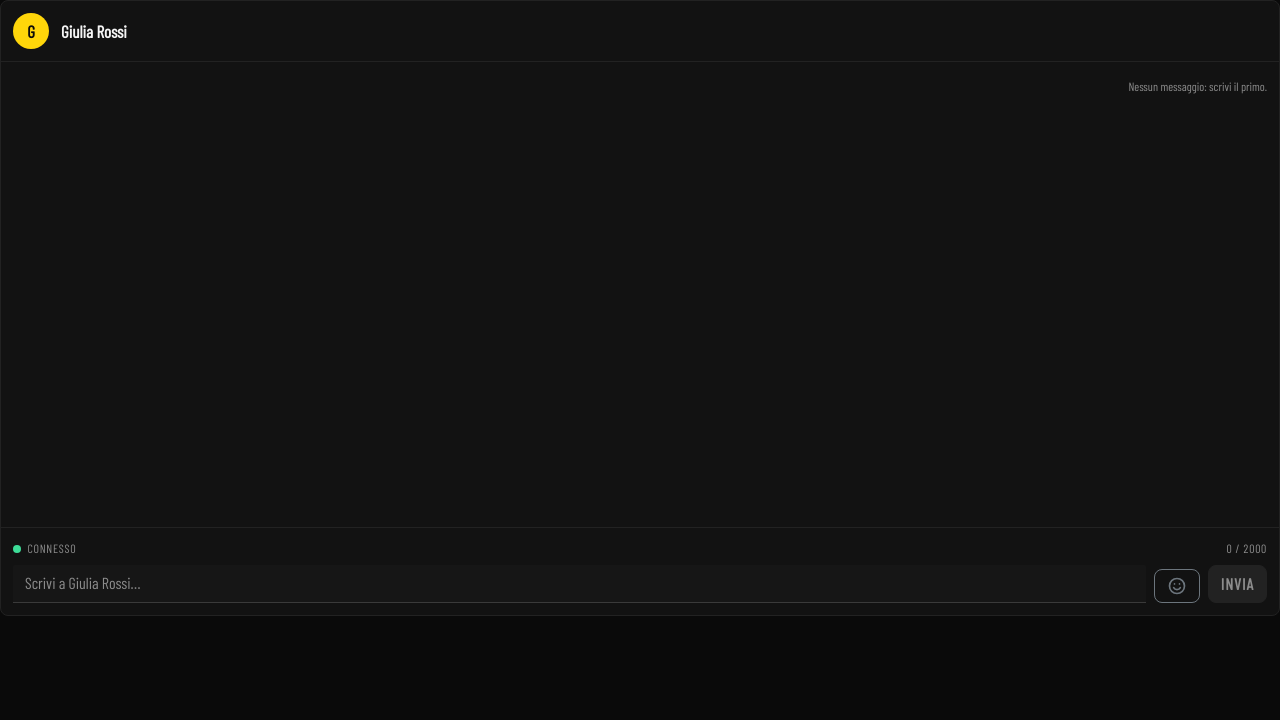
Test: ConversationView · invio › mostra il contatore «n / 2000» e non accetta più di 2000 caratteri
Expected: the text "0 / 2000" is shown, [1226, 540, 1267, 557]
Type "abc" into the text box named "Messaggio per Giulia Rossi" at (579, 584), box [13, 565, 1146, 603]
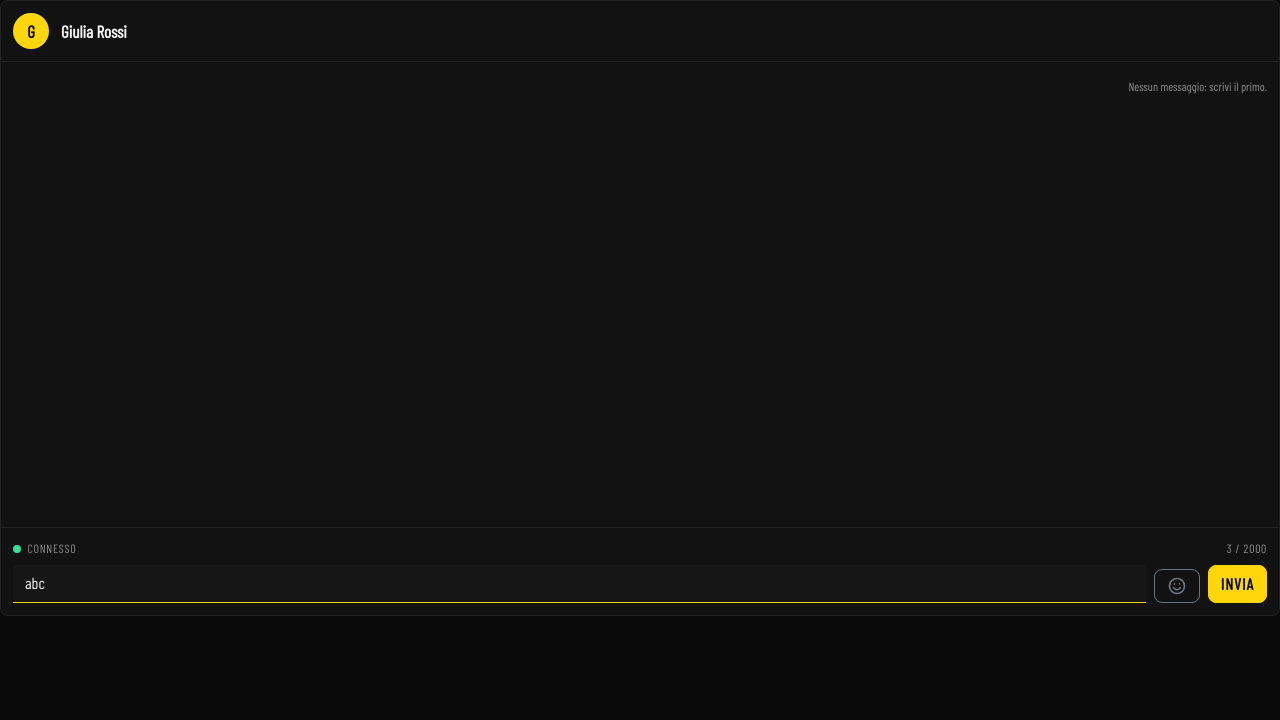
Expected: the text "3 / 2000" is shown, [1226, 540, 1267, 557]
